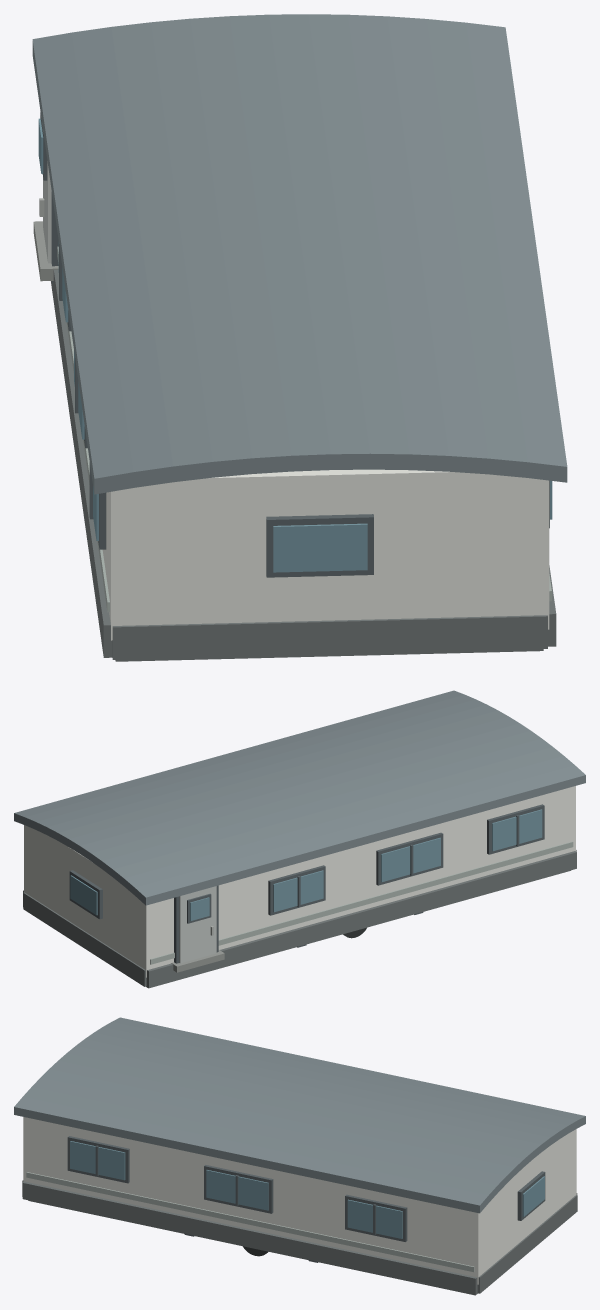
The picture shows the model from 3 angles, top to bottom: view 1: azimuth 30°, elevation 25°; view 2: azimuth 150°, elevation 25°; view 3: azimuth 270°, elevation 25°; orthographic projection. The views are drawn at different scales.
Parts seen in each view (by area): view 1: shallow_crowned_roof, main_caravan_body, lower_end_skirt_negative, rear_end_window_glass, lower_side_skirt_positive, rear_end_window_frame, underframe_main; view 2: shallow_crowned_roof, main_caravan_body, lower_side_skirt_positive, side_stripe_positive, lower_end_skirt_positive, entrance_door_panel, positive_side_window_2_glass, positive_side_window_3_glass, positive_side_window_1_glass, positive_side_window_2_frame, positive_side_window_3_frame, positive_side_window_1_frame (+5 smaller); view 3: shallow_crowned_roof, main_caravan_body, lower_side_skirt_negative, side_stripe_negative, lower_end_skirt_positive, negative_side_window_2_glass, negative_side_window_1_glass, negative_side_window_3_glass, negative_side_window_2_frame, negative_side_window_3_frame, negative_side_window_1_frame, front_end_window_glass (+2 smaller).
Part boxes in pixels (bbox=[...]): shallow_crowned_roof: bbox=[32, 14, 567, 494]; main_caravan_body: bbox=[102, 469, 549, 640]; lower_end_skirt_negative: bbox=[112, 615, 547, 659]; rear_end_window_glass: bbox=[273, 523, 367, 572]; lower_side_skirt_positive: bbox=[51, 269, 112, 657]; rear_end_window_frame: bbox=[266, 514, 373, 577]; underframe_main: bbox=[115, 649, 543, 661]; shallow_crowned_roof: bbox=[14, 690, 585, 905]; main_caravan_body: bbox=[24, 786, 575, 977]; lower_side_skirt_positive: bbox=[146, 851, 576, 987]; side_stripe_positive: bbox=[150, 841, 573, 964]; lower_end_skirt_positive: bbox=[23, 892, 146, 986]; entrance_door_panel: bbox=[179, 886, 216, 963]; positive_side_window_2_glass: bbox=[381, 837, 440, 882]; positive_side_window_3_glass: bbox=[273, 870, 323, 912]; positive_side_window_1_glass: bbox=[492, 809, 542, 851]; positive_side_window_2_frame: bbox=[376, 832, 443, 885]; positive_side_window_3_frame: bbox=[268, 865, 325, 915]; positive_side_window_1_frame: bbox=[487, 804, 544, 854]; shallow_crowned_roof: bbox=[14, 1017, 585, 1213]; main_caravan_body: bbox=[23, 1117, 576, 1284]; lower_side_skirt_negative: bbox=[22, 1181, 477, 1294]; side_stripe_negative: bbox=[26, 1172, 474, 1272]; lower_end_skirt_positive: bbox=[477, 1195, 577, 1293]; negative_side_window_2_glass: bbox=[206, 1170, 268, 1210]; negative_side_window_1_glass: bbox=[70, 1141, 125, 1180]; negative_side_window_3_glass: bbox=[347, 1199, 402, 1238]; negative_side_window_2_frame: bbox=[204, 1165, 273, 1213]; negative_side_window_3_frame: bbox=[345, 1194, 407, 1241]; negative_side_window_1_frame: bbox=[67, 1136, 129, 1183]; front_end_window_glass: bbox=[522, 1176, 544, 1216].
Bounding box in the file's own units: 8.68 × 2.5 × 11.15.
